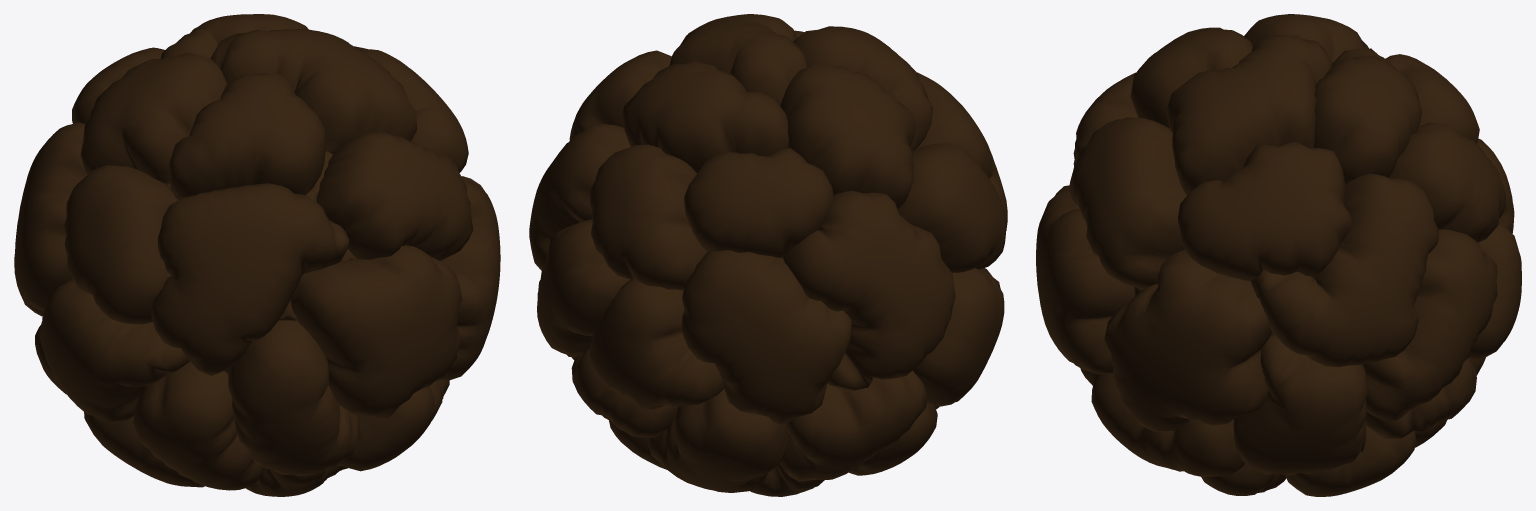
The model's file is LavaPlanet.fbx.
3 renders of one model, left to right at view 1: azimuth 30°, elevation 25°; view 2: azimuth 150°, elevation 25°; view 3: azimuth 270°, elevation 25°, orthographic.
Parts seen in each view (by area): view 1: LavaCore; view 2: LavaCore; view 3: LavaCore.
Boxes of the visible parts, x1,y1,x2,y2 form: LavaCore: (14,14,500,496); LavaCore: (529,14,1007,496); LavaCore: (1036,14,1521,496).
Size of the model in its own units: 226 by 228 by 228.
